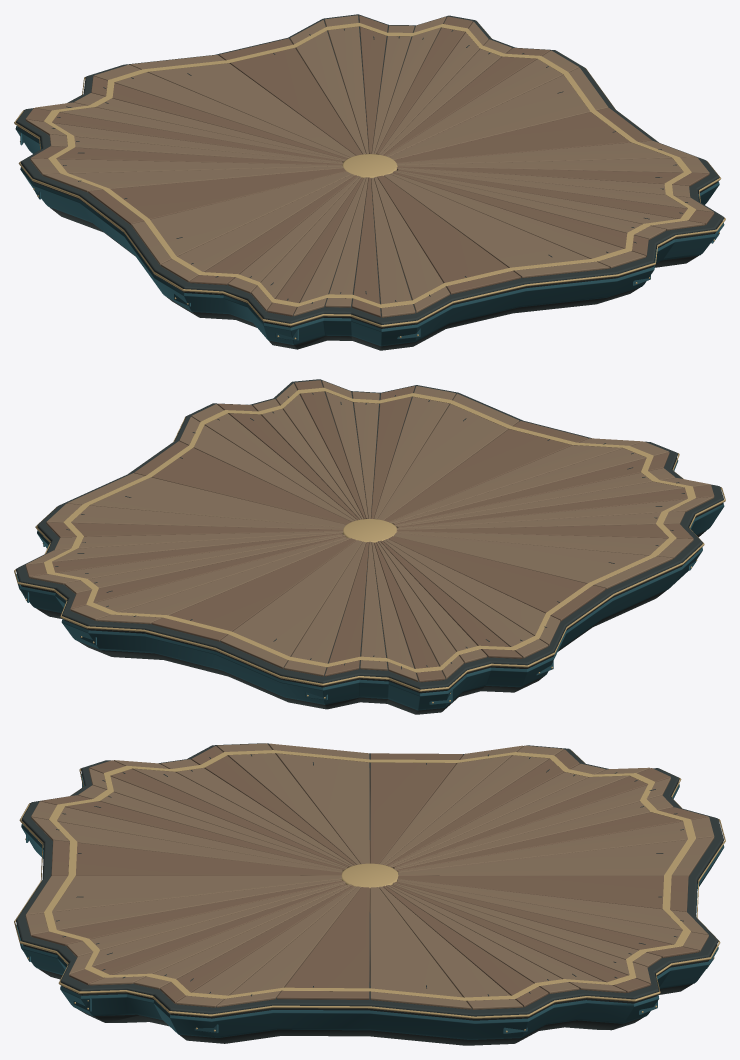
Rendered from chapter_terrace_2_1_atelier.glb.
The picture shows the model from 3 angles, top to bottom: view 1: azimuth 30°, elevation 25°; view 2: azimuth 150°, elevation 25°; view 3: azimuth 270°, elevation 25°; orthographic projection. The views are drawn at different scales.
Parts seen in each view (by area): view 1: chapter_terrace_2_1_atelier__TaggedPainted_chapter_terrace_2, chapter_terrace_2_1_atelier__Painted_chapter_terrace_2_1_ate (×2); view 2: chapter_terrace_2_1_atelier__TaggedPainted_chapter_terrace_2, chapter_terrace_2_1_atelier__Painted_chapter_terrace_2_1_ate (×2); view 3: chapter_terrace_2_1_atelier__TaggedPainted_chapter_terrace_2, chapter_terrace_2_1_atelier__Painted_chapter_terrace_2_1_ate (×2).
Boxes of the visible parts, <box> form: chapter_terrace_2_1_atelier__TaggedPainted_chapter_terrace_2: <box>16,14,723,350</box>; chapter_terrace_2_1_atelier__Painted_chapter_terrace_2_1_ate (×2): <box>14,21,725,346</box>; chapter_terrace_2_1_atelier__TaggedPainted_chapter_terrace_2: <box>16,379,723,714</box>; chapter_terrace_2_1_atelier__Painted_chapter_terrace_2_1_ate (×2): <box>14,385,725,710</box>; chapter_terrace_2_1_atelier__TaggedPainted_chapter_terrace_2: <box>16,743,723,1045</box>; chapter_terrace_2_1_atelier__Painted_chapter_terrace_2_1_ate (×2): <box>14,749,725,1039</box>.
Bounding box in the file's own units: 20.07 × 2.63 × 22.07.
